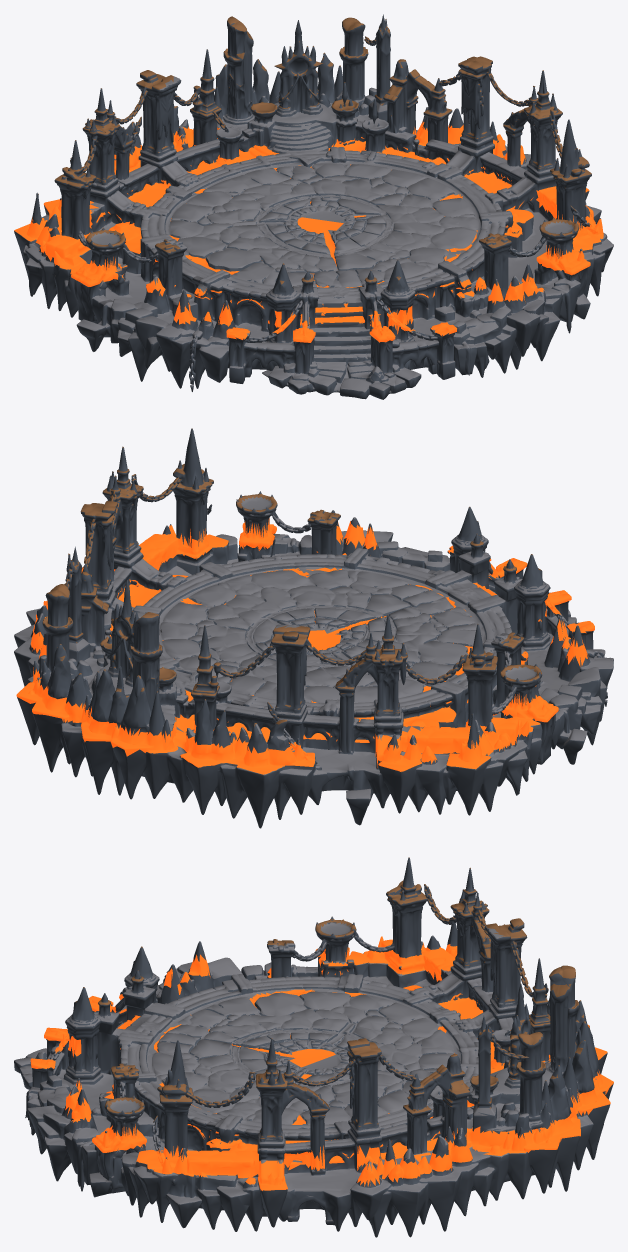
Rendered from Arena2.fbx.
3 views of the same model, one above another, from view 1: azimuth 30°, elevation 25°; view 2: azimuth 150°, elevation 25°; view 3: azimuth 270°, elevation 25° (orthographic). The views are drawn at different scales.
Parts seen in each view (by area): view 1: Arena2; view 2: Arena2; view 3: Arena2.
Part boxes in pixels (bbox=[...]): Arena2: bbox=[14, 14, 613, 399]; Arena2: bbox=[14, 428, 613, 828]; Arena2: bbox=[14, 857, 613, 1237].
Bounding box in the file's own units: 2554 × 2600 × 957.
